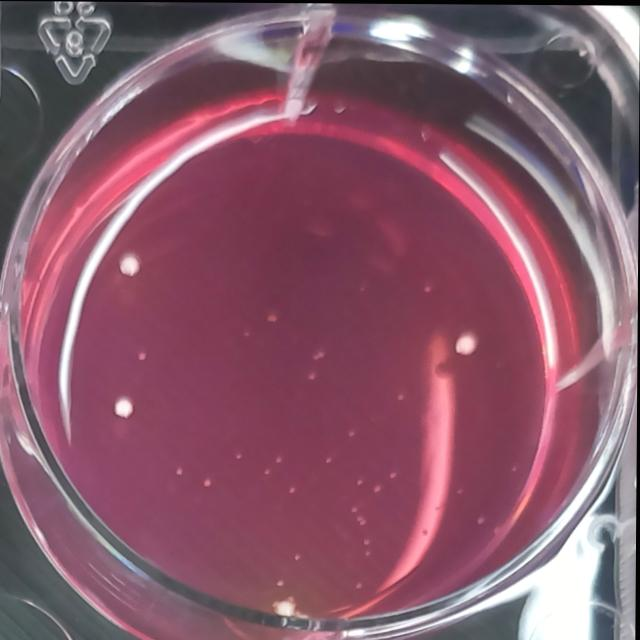StaphyloPositive: (114, 249, 145, 279), (450, 328, 481, 356), (271, 595, 302, 619), (111, 396, 139, 419)
